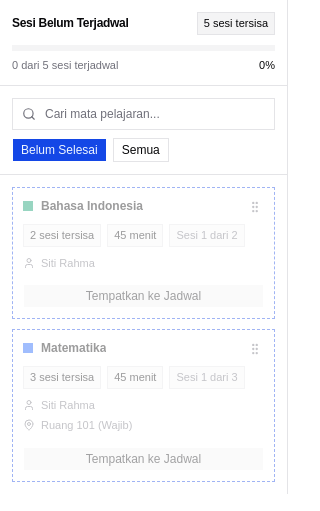
Test: QA-04 & AC-FR06-02 s.d. 07: Component Test Antarmuka UnscheduledPanel › 2. input teks pencarian menyaring daftar kartu secara instan (AC-FR06-03)
The width and height of the screenshot is (320, 511).
Expected: the text "Matematika" is shown, [41,340,106,356]
Expected: the text "Bahasa Indonesia" is shown, [41,198,143,214]
Ketik "bahasa" di kotak pencarian
Type "bahasa" into the field with placeholder "Cari mata pelajaran...".
click(144, 114); type("bahasa")  # box [12,98,275,130]
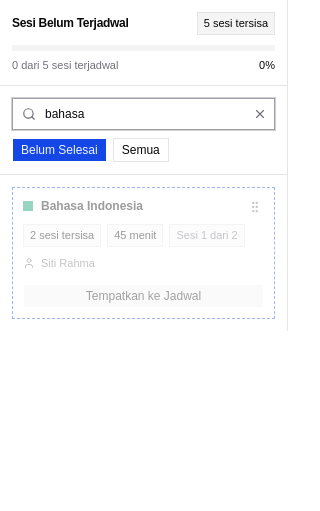
Expected: the text "Bahasa Indonesia" is shown, [41,198,143,214]
Result: the text "Matematika" is gone
Bersihkan kotak pencarian
Clear the field with placeholder "Cari mata pelajaran..." at (144, 114), box [12,98,275,130]
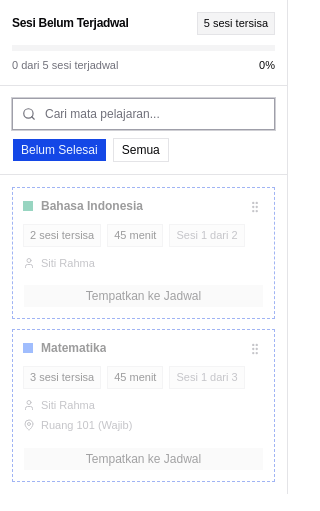
Expected: the text "Bahasa Indonesia" is shown, [41,198,143,214]
Result: the text "Matematika" is shown at [41,340,106,356]
